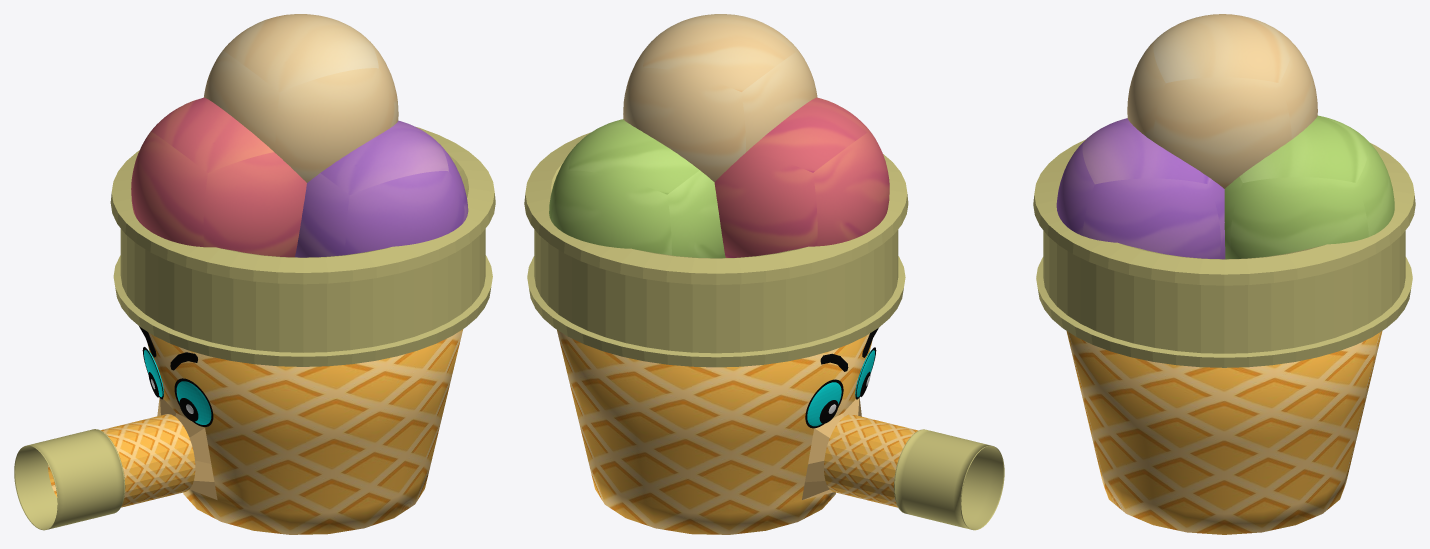
The model's file is ICream2.0.fbx.
3 views of the same model, side by side, from view 1: azimuth 30°, elevation 25°; view 2: azimuth 150°, elevation 25°; view 3: azimuth 270°, elevation 25° (orthographic).
Visible parts, largest first — view 1: Cylinder, Torus, Cube.003, Cube, Cube.001, Torus.001, Eyes; view 2: Cylinder, Torus, Cube.003, Cube, Cube.002, Torus.001, Eyes; view 3: Cylinder, Torus, Cube.003, Cube.002, Cube.001.
Boxes of the visible parts, x1,y1,x2,y2 form: Cylinder: (48,329,463,534); Torus: (110,126,495,366); Cube.003: (203,14,398,182); Cube: (131,97,306,257); Cube.001: (295,120,468,257); Torus.001: (14,429,125,530); Eyes: (139,326,213,426); Cylinder: (557,330,918,534); Torus: (524,132,908,367); Cube.003: (623,14,817,181); Cube: (714,97,889,257); Cube.002: (549,119,725,258); Torus.001: (894,429,1004,530); Eyes: (805,328,878,428); Cylinder: (1066,331,1382,534); Torus: (1033,139,1415,367); Cube.003: (1127,14,1317,188); Cube.002: (1224,115,1394,259); Cube.001: (1056,118,1225,259).
Size of the model in its own units: 315 by 415 by 410.
